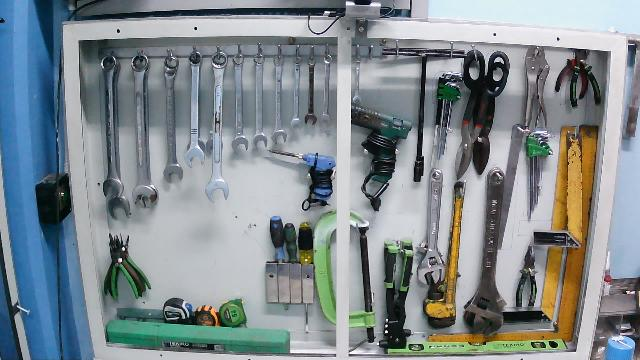gun_lem: (350, 106, 414, 212)
